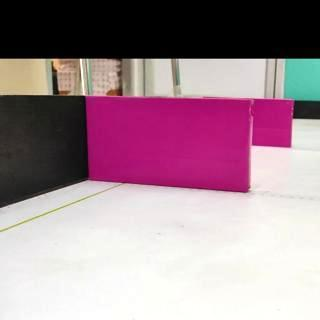xparking: (87, 96, 249, 192), (254, 100, 290, 147)
